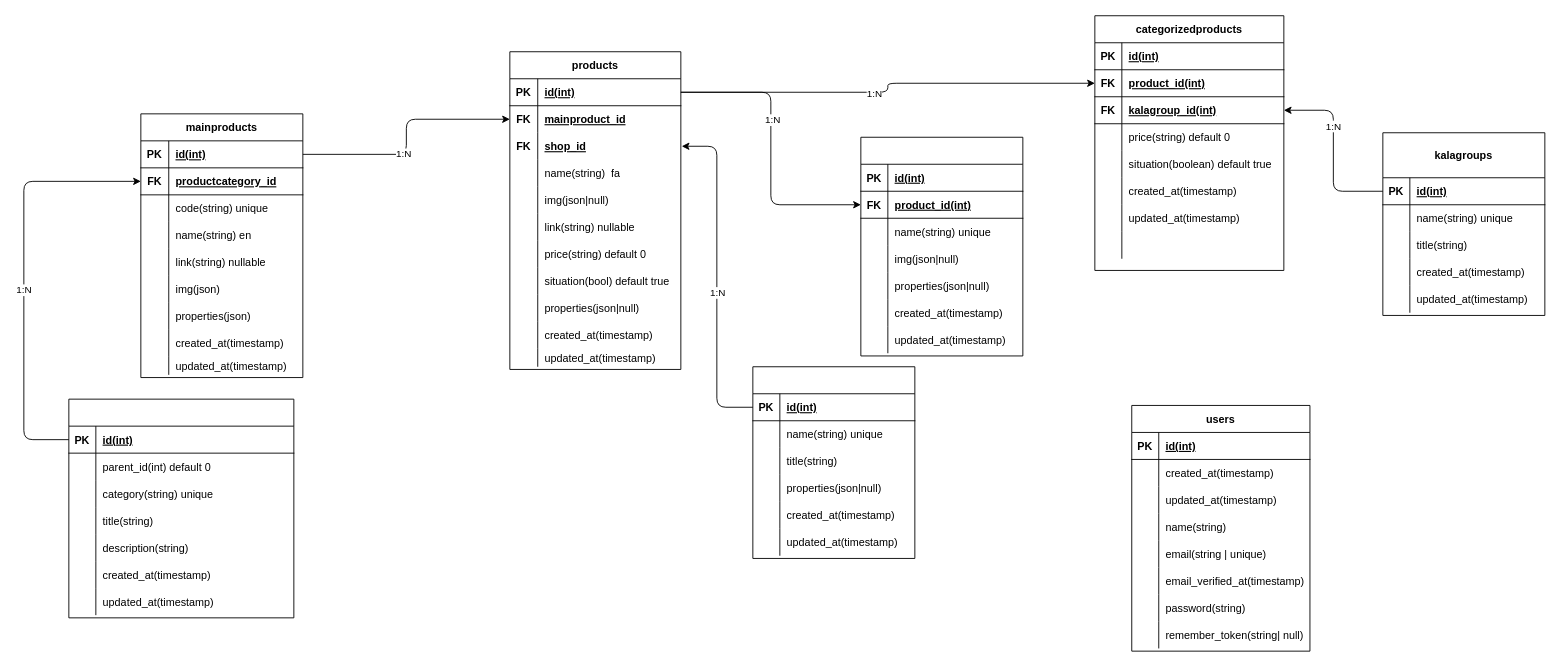
This 1561x667 diagram has some shape labels left out. The box of each missing label's shape, as (x1, y1, x2, y2) in pixels:
kalas: (860, 136, 1023, 356)
productcategories: (68, 398, 294, 618)
shopes: (752, 366, 915, 558)
